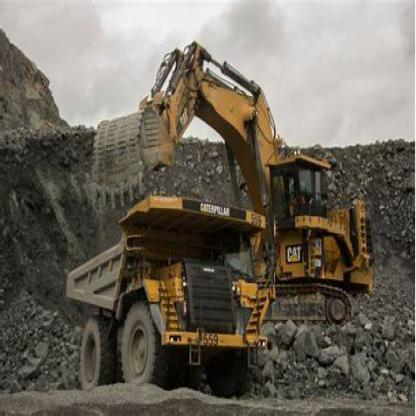dump_truck: (60, 188, 272, 380)
excavator: (91, 40, 385, 335)
